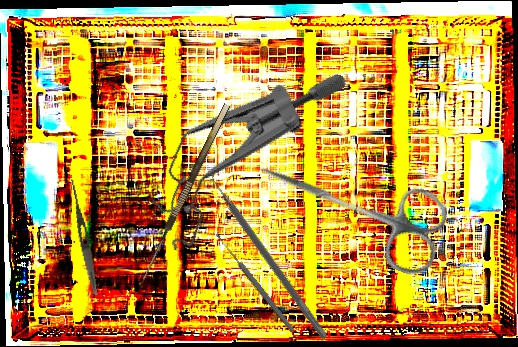Dressing Forceps: (66, 177, 101, 297)
Hook Surgical: (135, 103, 241, 293)
Iris Scissors: (244, 132, 456, 281)
Spatula Surgical: (201, 164, 336, 341)
Speculum: (133, 24, 352, 288)
Surgical Spoon: (214, 231, 296, 334)
